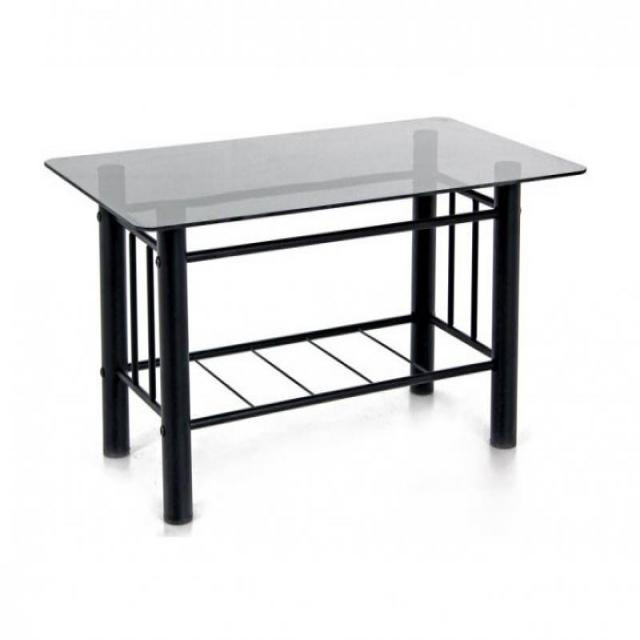table: (36, 101, 609, 533)
